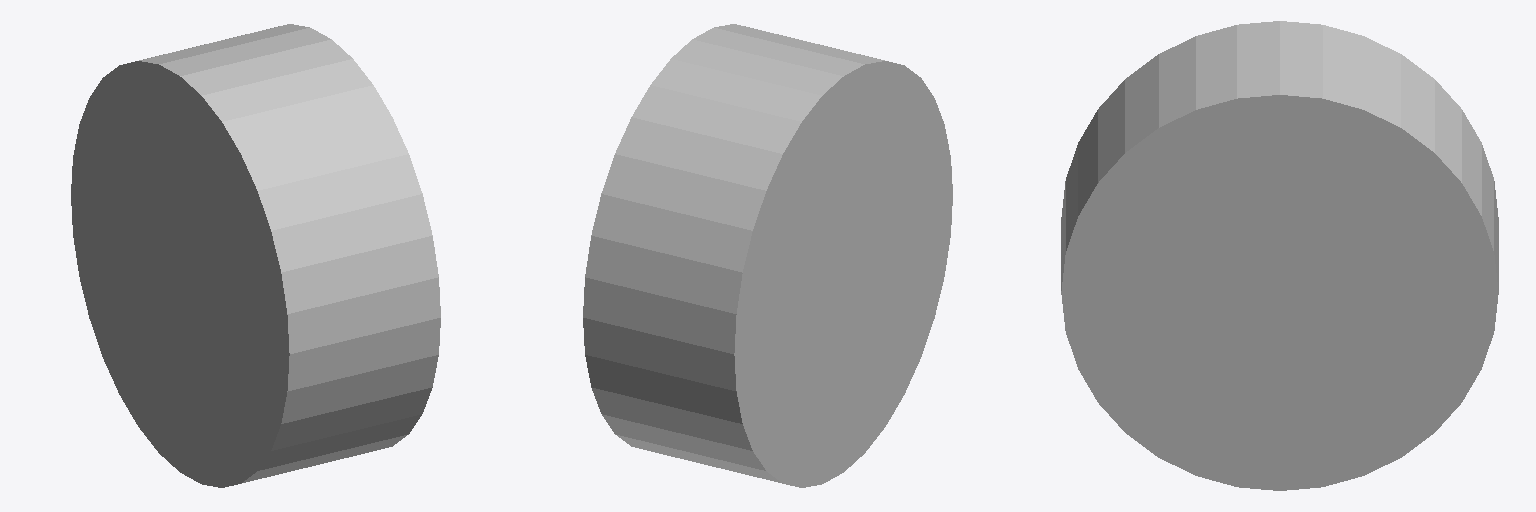
The model's file is Wheel.obj.
3 views of the same model, side by side, from view 1: azimuth 30°, elevation 25°; view 2: azimuth 150°, elevation 25°; view 3: azimuth 270°, elevation 25° (orthographic).
Visible parts, largest first — view 1: Cylinder; view 2: Cylinder; view 3: Cylinder.
Part boxes in pixels (x1,y1,x2,y2): Cylinder: (71, 24, 440, 487); Cylinder: (583, 24, 952, 487); Cylinder: (1061, 21, 1498, 490).
Size of the model in its own units: 0.8 by 2 by 2.